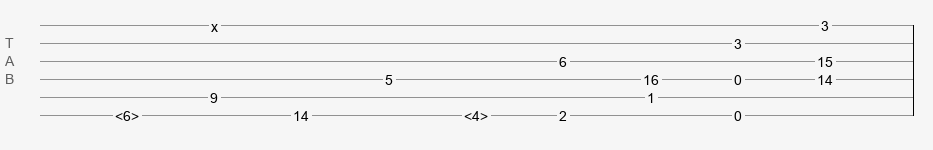0: (734, 72, 742, 82), (734, 108, 742, 118)
1: (647, 90, 655, 100)
14: (293, 108, 309, 118), (817, 72, 833, 82)
15: (817, 54, 833, 64)
16: (643, 72, 659, 82)
2: (559, 108, 567, 118)
3: (734, 36, 742, 46), (821, 18, 829, 28)
5: (385, 72, 393, 82)
6: (559, 54, 567, 64)
9: (210, 90, 218, 100)
harmonic: (115, 108, 139, 118), (464, 108, 488, 118)
x: (211, 19, 218, 27)
